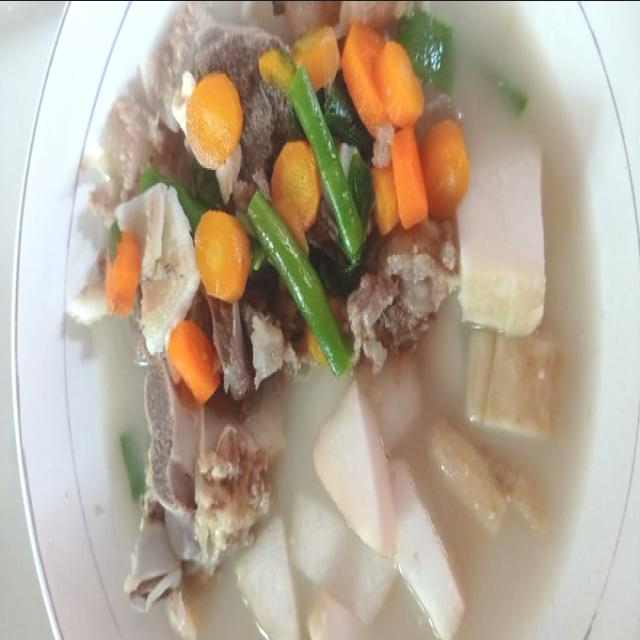sop: (12, 0, 640, 640)
